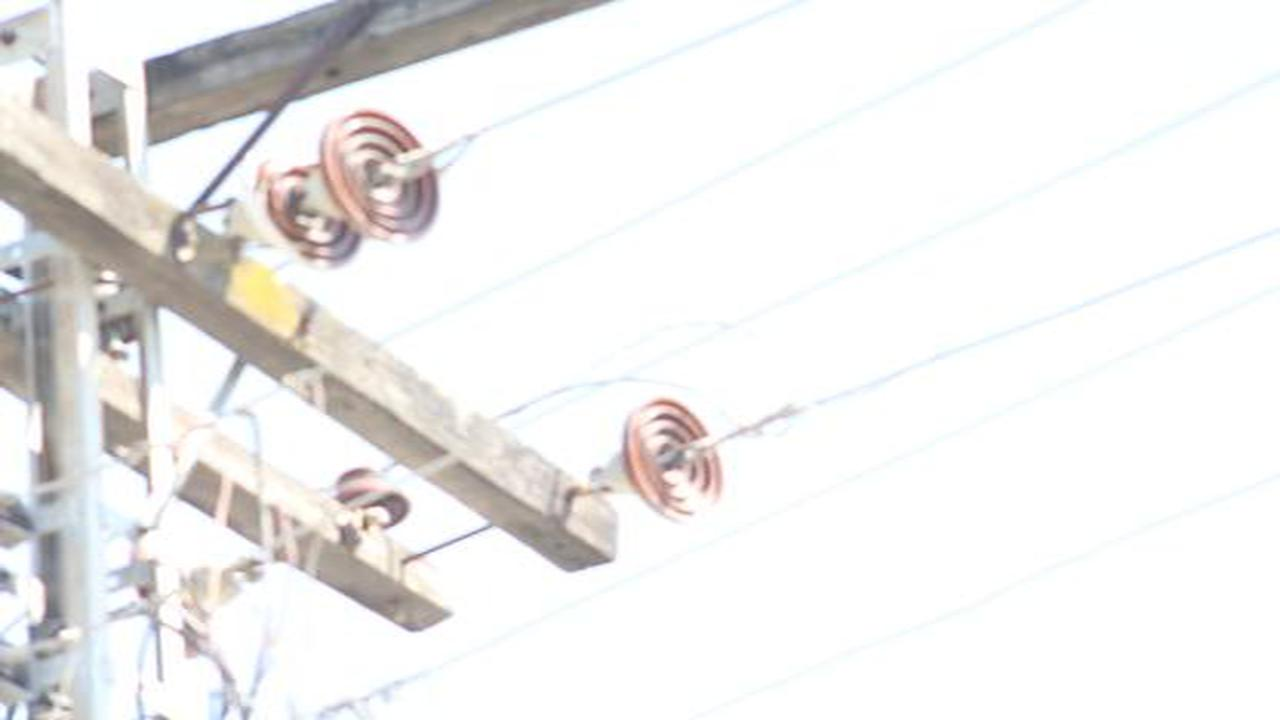insulator_disc: (318, 105, 442, 249), (603, 392, 728, 530)
insulator_pin: (334, 460, 416, 532)
